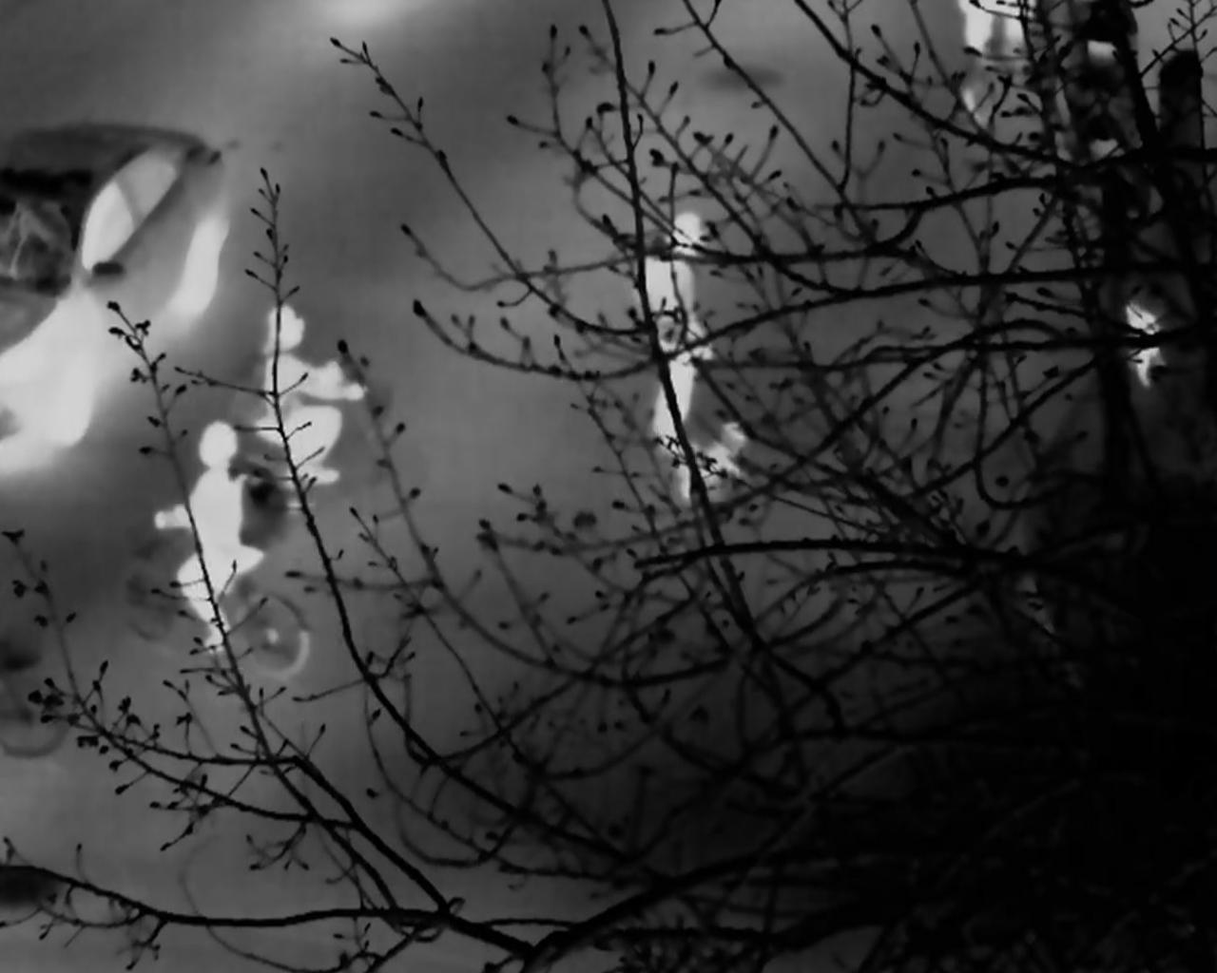person: (161, 417, 282, 649), (647, 195, 741, 455), (249, 295, 354, 507)
